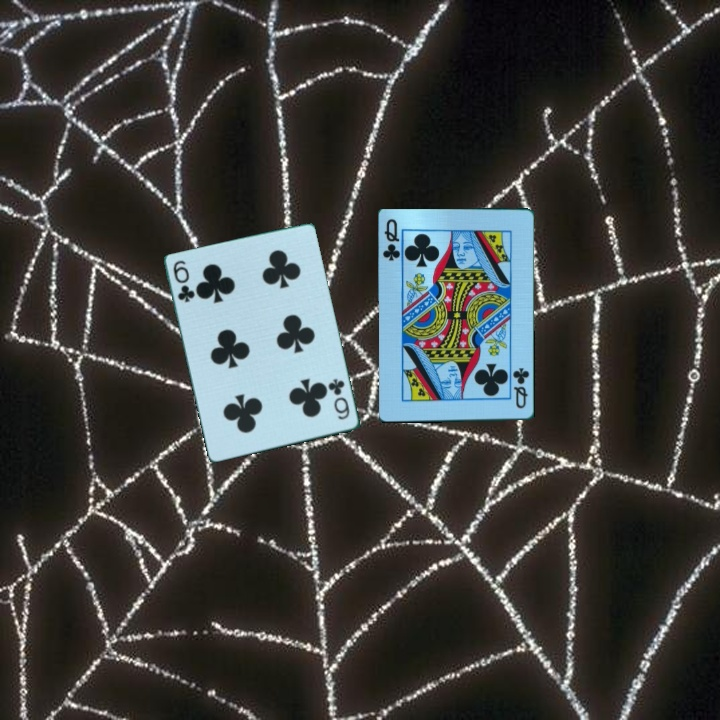6c: (170, 257, 197, 306), (326, 375, 353, 423)
Qc: (380, 216, 403, 264), (510, 365, 532, 411)
